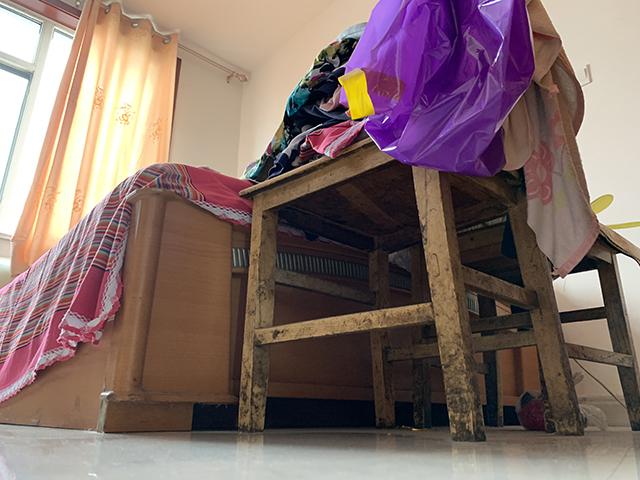bed: (1, 162, 556, 434)
stool: (238, 137, 587, 443), (407, 218, 640, 438)
